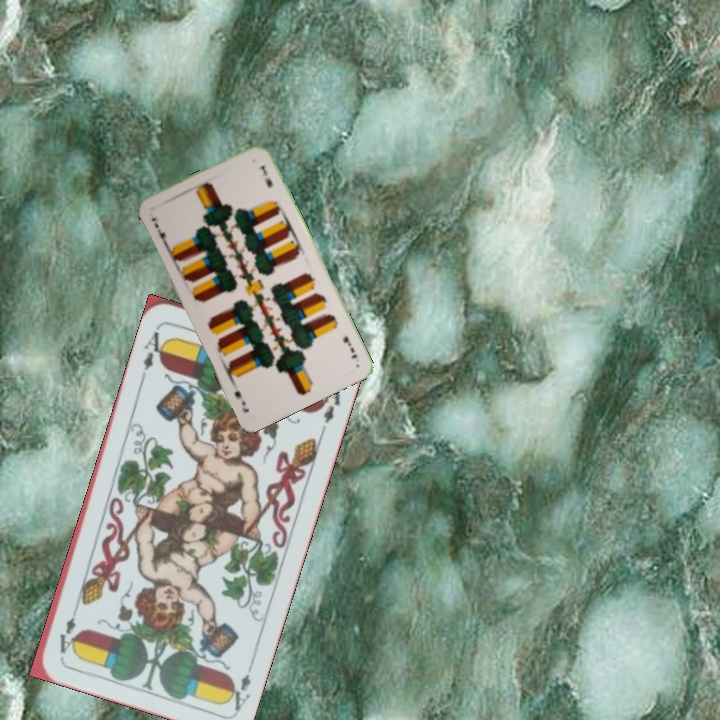E7: (147, 213, 171, 248), (339, 332, 360, 361)
EA: (222, 656, 257, 714), (139, 322, 170, 374)
